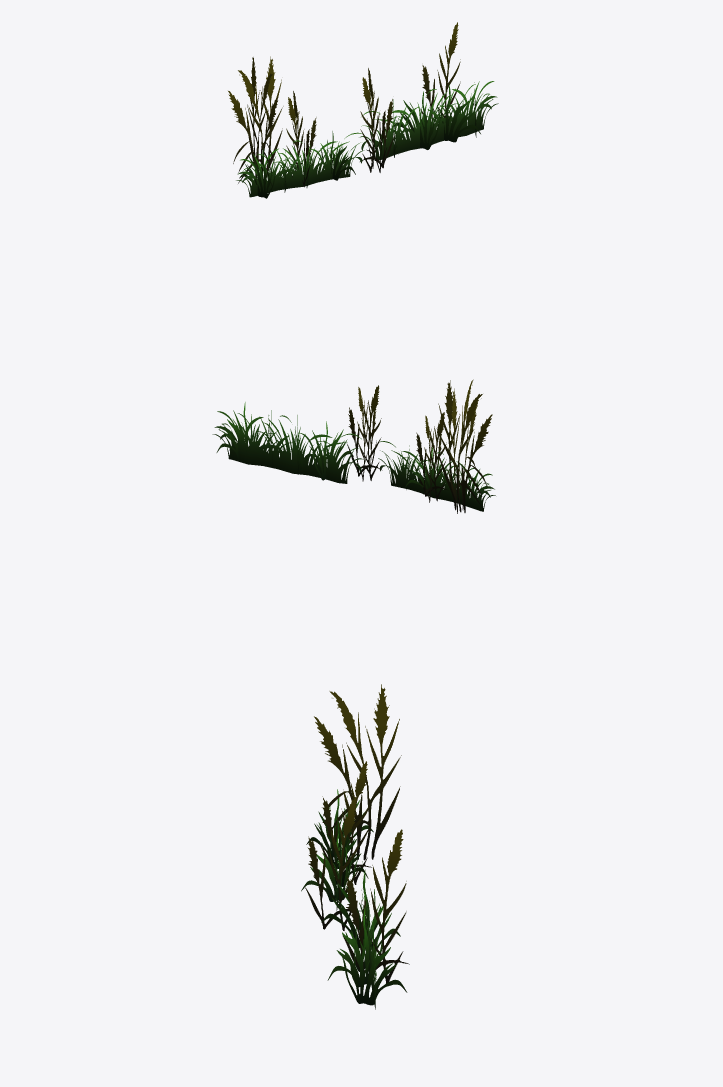
The model's file is grass1.glb.
The picture shows the model from 3 angles, top to bottom: view 1: azimuth 30°, elevation 25°; view 2: azimuth 150°, elevation 25°; view 3: azimuth 270°, elevation 25°; orthographic projection. The views are drawn at different scales.
Parts seen in each view (by area): view 1: grass(noColl)(light); view 2: grass(noColl)(light); view 3: grass(noColl)(light).
Part boxes in pixels (<box>): grass(noColl)(light): <box>228,22,498,198</box>; grass(noColl)(light): <box>212,379,495,513</box>; grass(noColl)(light): <box>301,684,409,1009</box>.
Bounding box in the file's own units: 12.16 × 3.82 × 12.16.
1 material, 1 textured.
